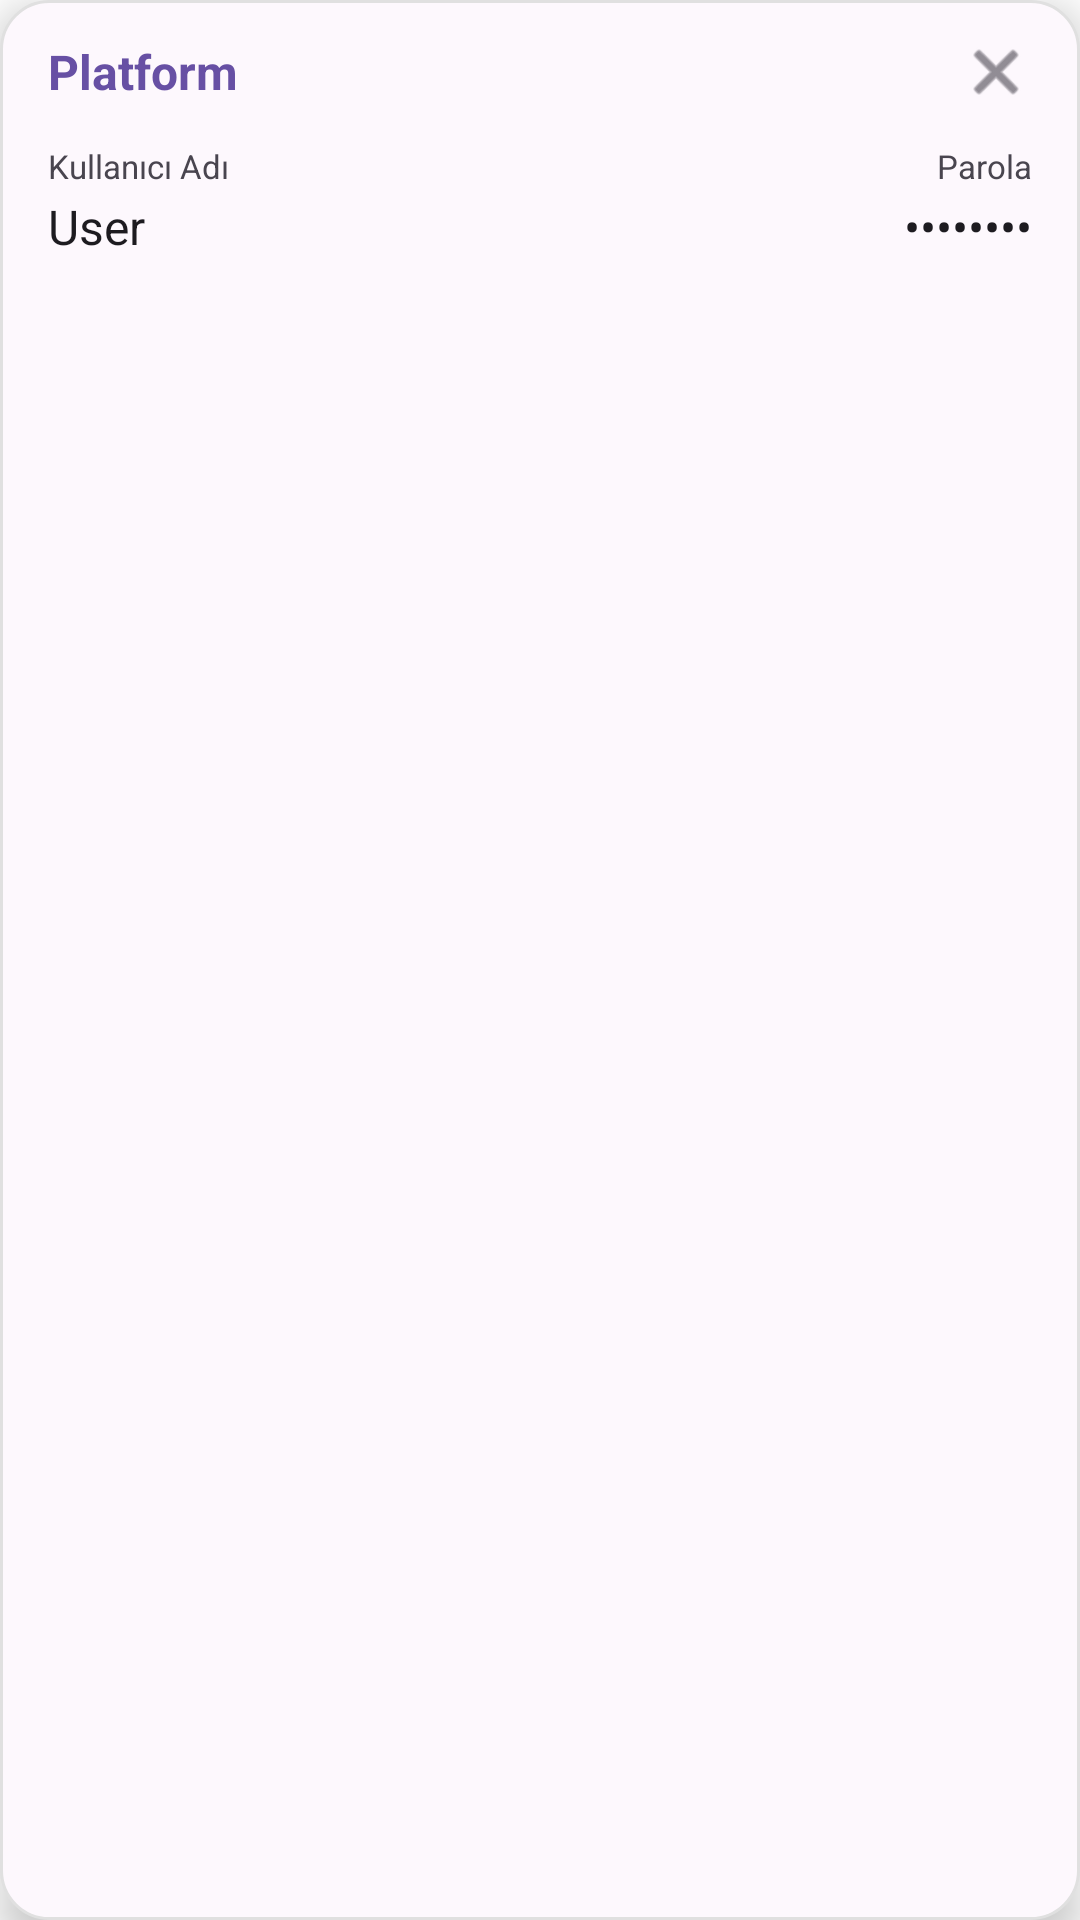

Icons on this 1080×1920 Android screen, each with its box as bbox(x1, y1, x2, y2):
close clear cancel: bbox(974, 50, 1018, 94)
